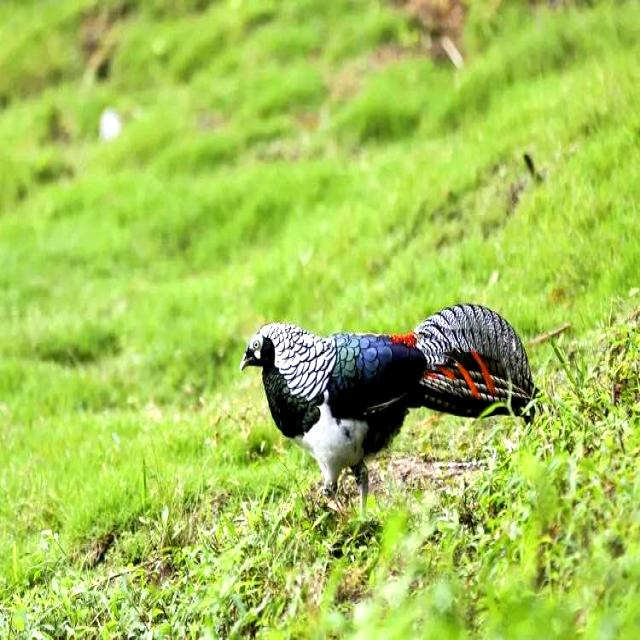Chrysolophus amherstiae: (399, 303, 533, 416)
